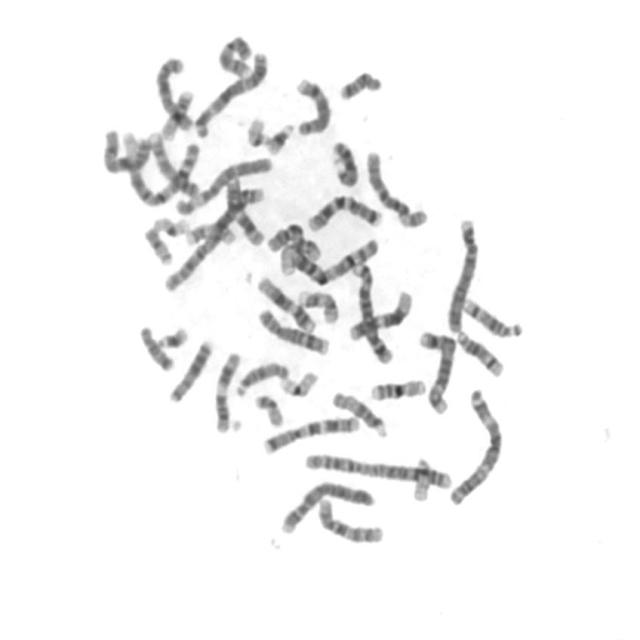A1: (117, 124, 203, 207), (283, 232, 381, 285)
A2: (159, 178, 267, 292), (298, 446, 454, 491)
A3: (443, 382, 506, 508), (189, 44, 272, 138)
B4: (276, 474, 376, 536), (441, 211, 481, 334)
B5: (346, 256, 396, 366), (414, 324, 458, 416)
C10: (313, 492, 387, 546), (262, 218, 324, 264)
C11: (221, 174, 267, 248), (209, 346, 242, 434)
C12: (252, 269, 319, 333), (344, 284, 415, 342)
C6: (170, 150, 274, 218), (362, 144, 430, 229)
C7: (258, 409, 362, 457), (303, 189, 385, 233)
C8: (253, 302, 332, 356), (290, 72, 333, 136)
C9: (144, 127, 201, 201), (213, 29, 254, 80)
D13: (163, 334, 215, 404), (326, 135, 361, 188)
D14: (458, 291, 526, 339), (452, 324, 506, 378)
D15: (327, 385, 390, 439), (230, 356, 292, 398)
E16: (156, 83, 196, 142), (364, 372, 428, 402)
E17: (294, 285, 340, 325), (180, 218, 238, 246)
E18: (134, 319, 177, 373), (334, 64, 384, 102)
F19: (274, 364, 320, 398), (146, 211, 191, 238)
F20: (140, 222, 174, 266), (250, 388, 285, 428)
G21: (260, 116, 296, 156), (153, 320, 191, 351)
G22: (242, 111, 270, 148), (409, 457, 432, 501)
X: (147, 56, 205, 139), (98, 123, 154, 176)
